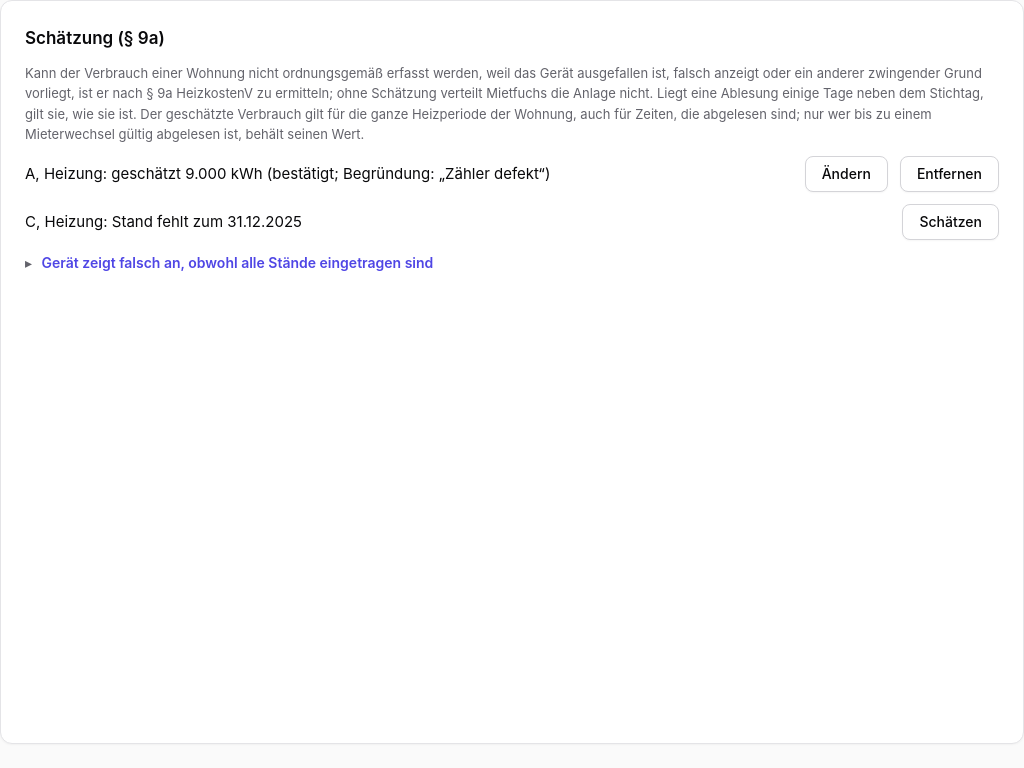
die Auswahlfelder zeigen den gespeicherten Weg und die gewählte Wohnung
This screenshot has width=1024, height=768.
Click the button with aria-label "Schätzung von A ändern". click: click(846, 174)
box: [805, 156, 888, 192]
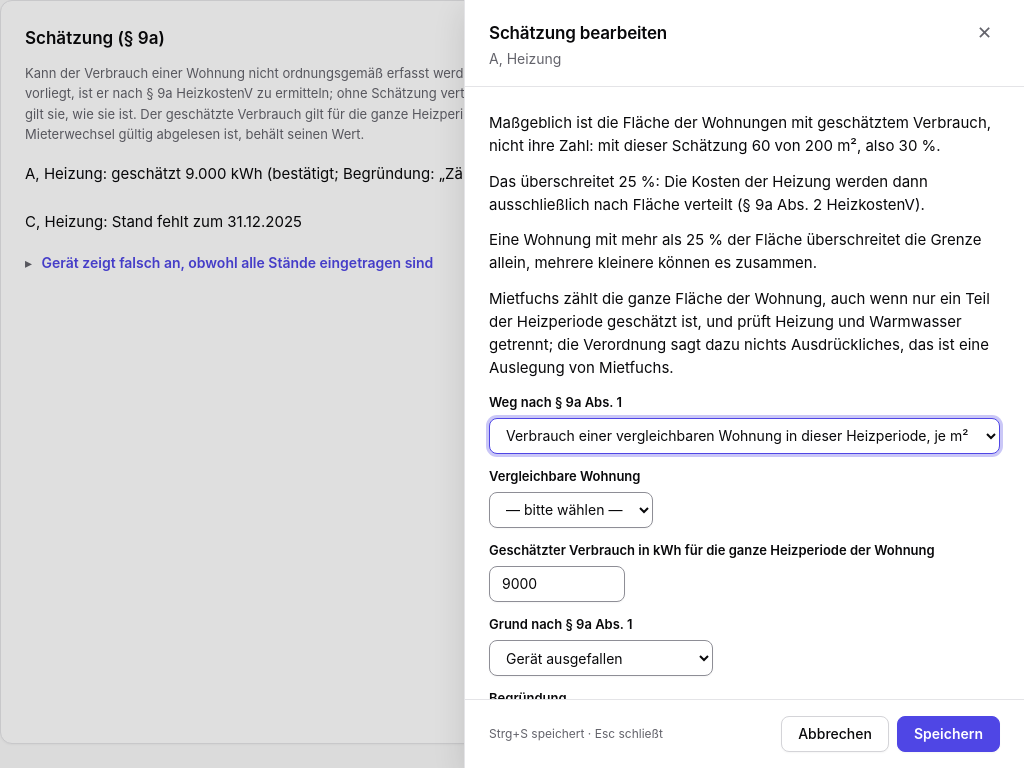
expect the dropdown labelled "Weg nach § 9a Abs. 1" shows "Verbrauch einer vergleichbaren Wohnung in dieser Heizperiode, je m² umgerechnet": met, box [489, 418, 1000, 454]
expect the dropdown labelled "Vergleichbare Wohnung" shows "— bitte wählen —": met
Select "B (150 kWh je m²)" in the dropdown labelled "Vergleichbare Wohnung". click: (571, 510)
box: [489, 492, 653, 528]
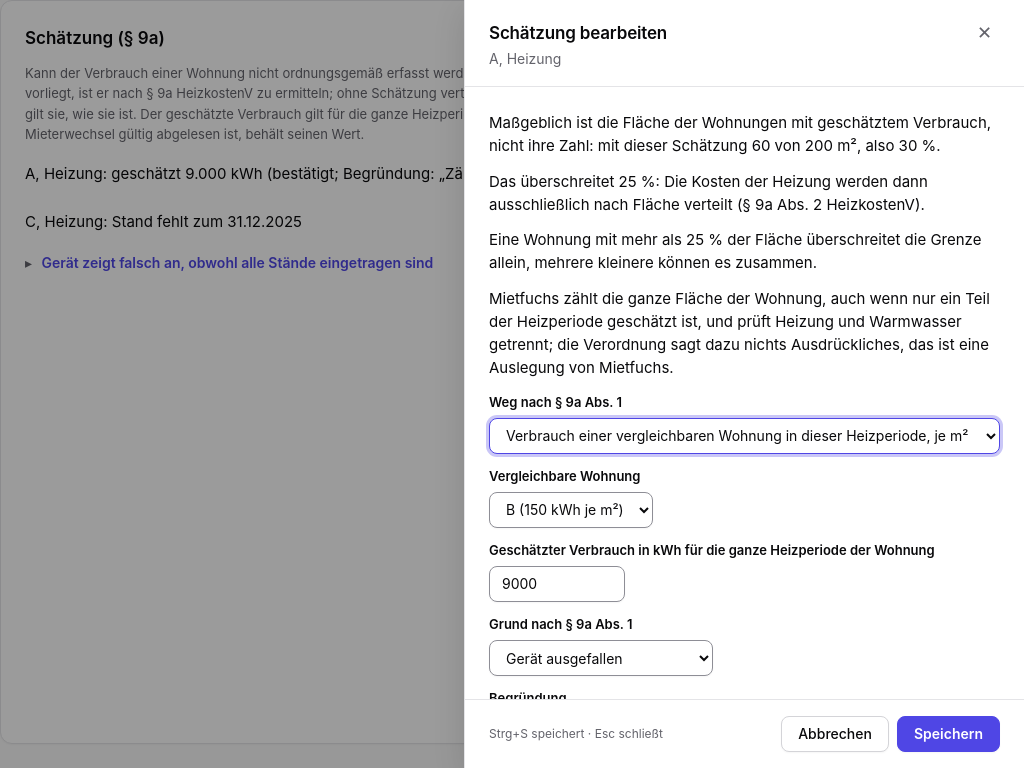
expect the field labelled "Geschätzter Verbrauch" holds "9000": met, box [489, 566, 625, 602]
Select "Durchschnittsverbrauch des Gebäudes je m² (Vorgabe)" in the dropdown labelled "Weg nach § 9a Abs. 1". click: (744, 436)
box: [489, 418, 1000, 454]
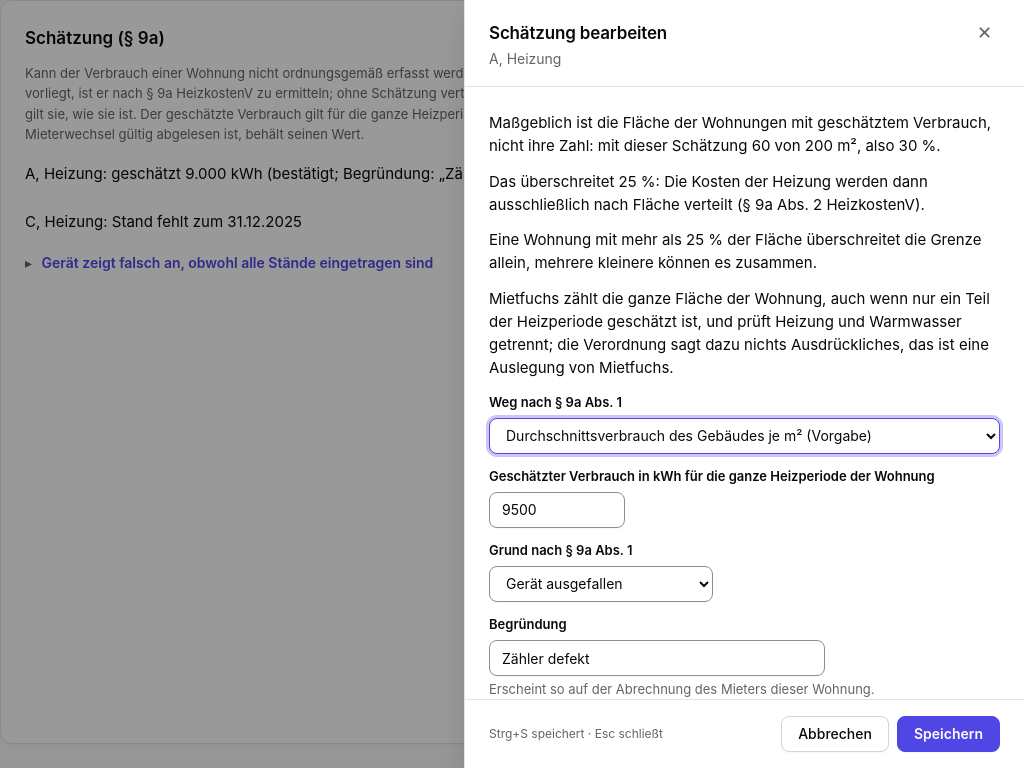
expect the field labelled "Geschätzter Verbrauch" holds "9500": met, box [489, 492, 625, 528]
